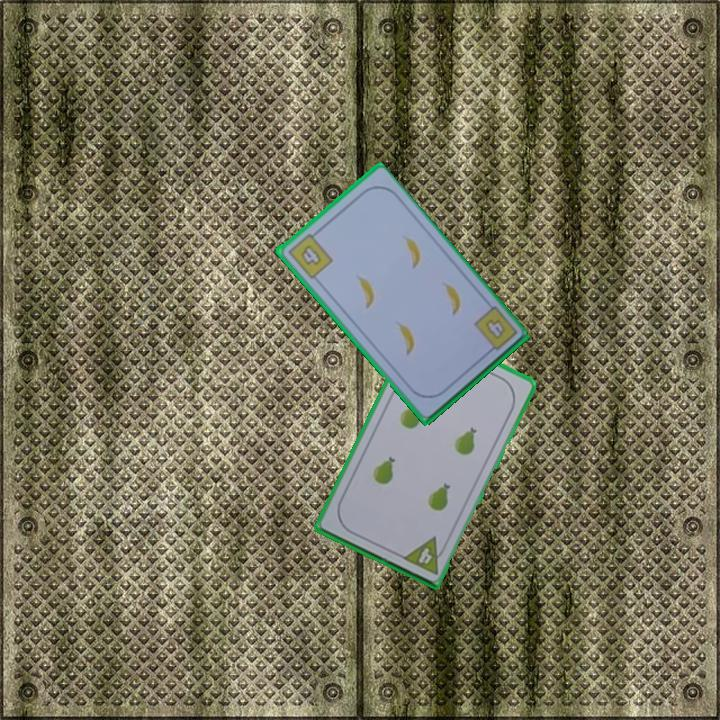4b: (284, 227, 335, 282), (482, 316, 508, 342)
4p: (399, 533, 450, 577)
